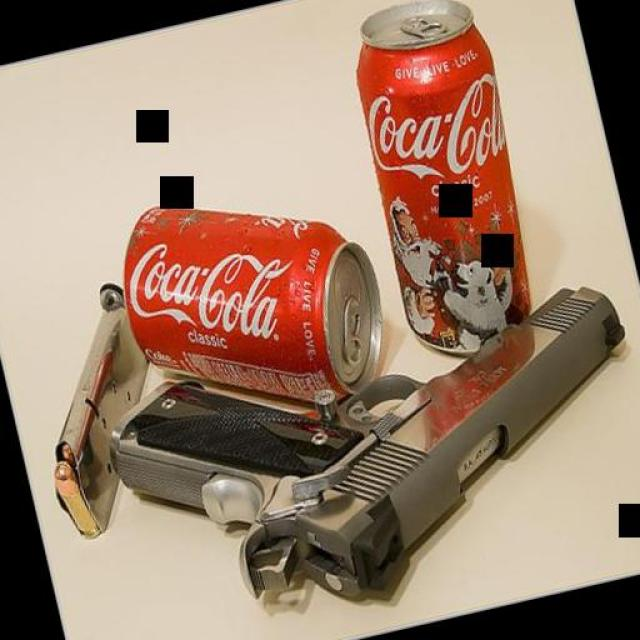gun: (81, 227, 640, 640)
